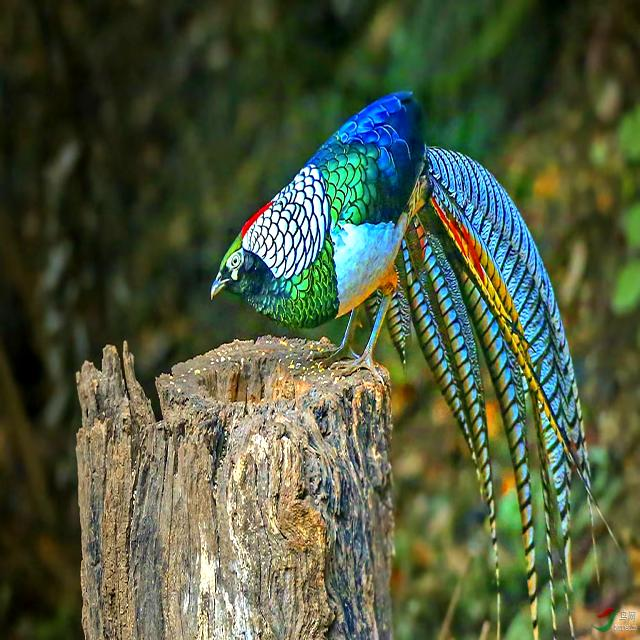Chrysolophus amherstiae: (386, 147, 592, 640), (365, 297, 380, 320)
